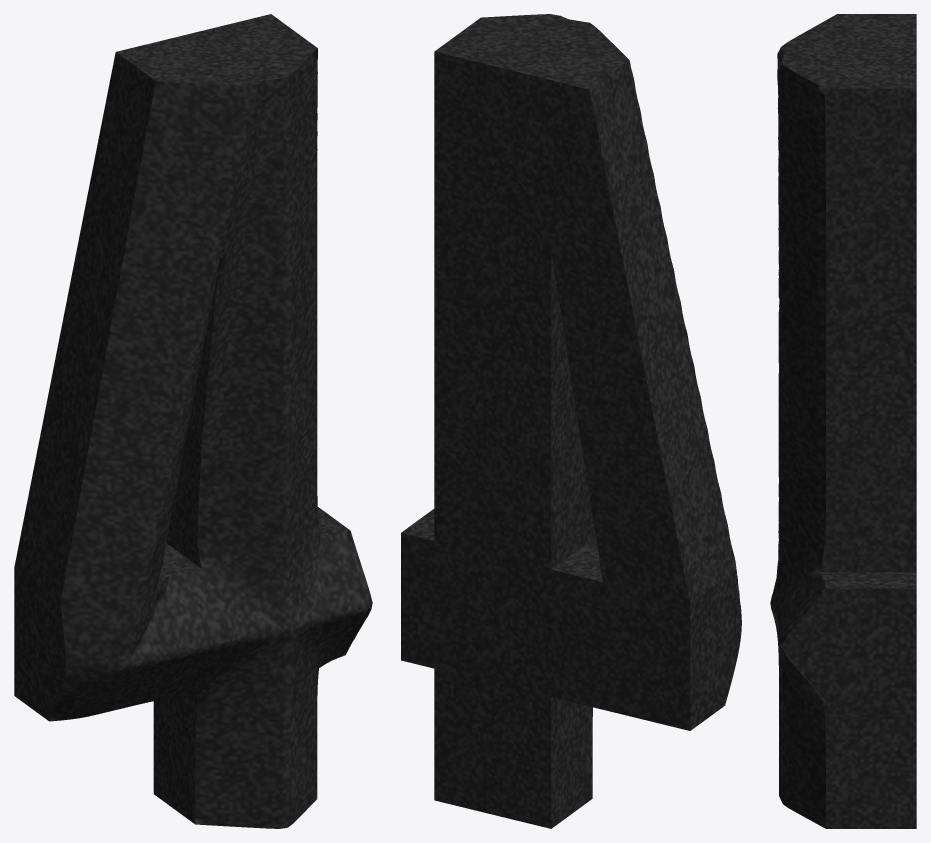
File: digit-4.glb
The picture shows the model from 3 angles, left to right: view 1: azimuth 30°, elevation 25°; view 2: azimuth 150°, elevation 25°; view 3: azimuth 270°, elevation 25°; orthographic projection.
Visible parts, largest first — view 1: Glyph 4; view 2: Glyph 4; view 3: Glyph 4.
Part boxes in pixels (bbox=[...]): Glyph 4: bbox=[14, 14, 372, 828]; Glyph 4: bbox=[401, 14, 741, 828]; Glyph 4: bbox=[770, 14, 916, 828].
Size of the model in its own units: 1.5 by 3.71 by 0.6656.
1 material, 1 textured.
